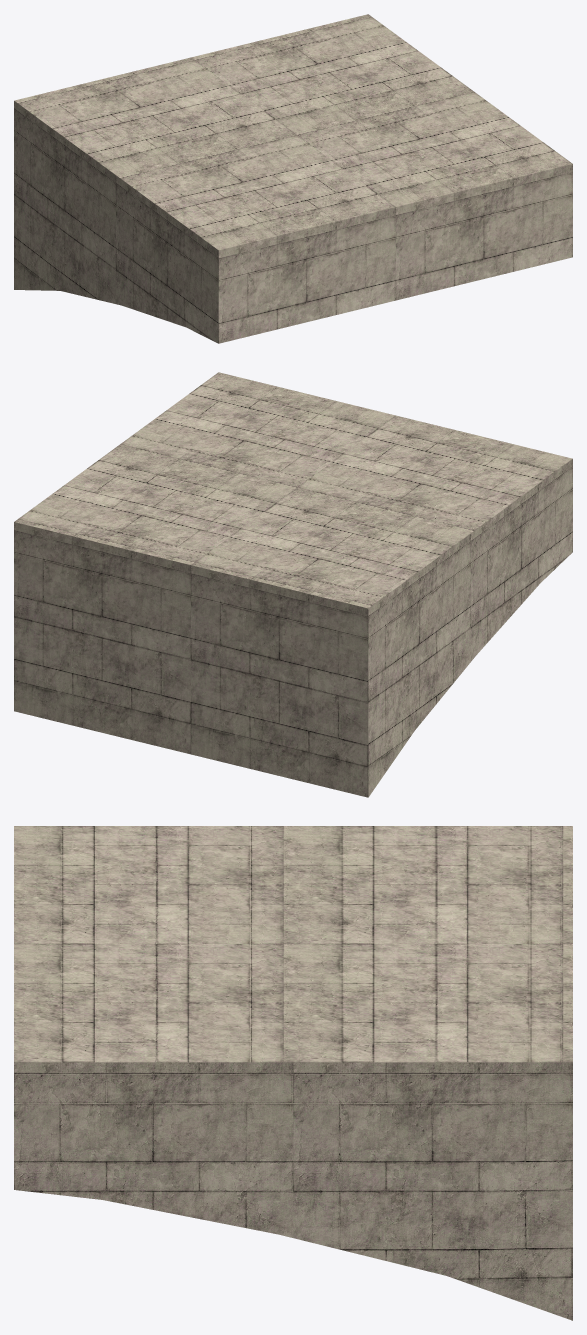
The model's file is BracingMarbleCenter.dae.
3 renders of one model, top to bottom at view 1: azimuth 30°, elevation 25°; view 2: azimuth 150°, elevation 25°; view 3: azimuth 270°, elevation 25°, orthographic. The views are drawn at different scales.
Visible parts, largest first — view 1: BracingMarbleCenter; view 2: BracingMarbleCenter; view 3: BracingMarbleCenter.
Boxes of the visible parts, x1,y1,x2,y2 form: BracingMarbleCenter: (14, 14, 572, 343); BracingMarbleCenter: (14, 372, 572, 797); BracingMarbleCenter: (14, 826, 572, 1320).
Bounding box in the file's own units: 4 × 2.04 × 4.
Materials: 1 (1 with a texture image).
